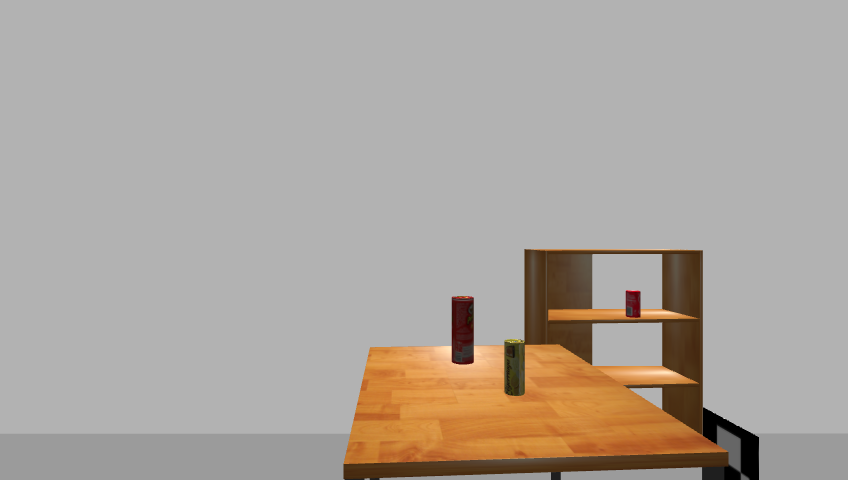aruco marker: (698, 407, 764, 480)
biscuits pack: (504, 339, 526, 397)
bookshelf: (519, 246, 713, 480)
coke can: (624, 290, 643, 318)
dinner table: (337, 343, 730, 480)
pringles can: (450, 295, 476, 366)
